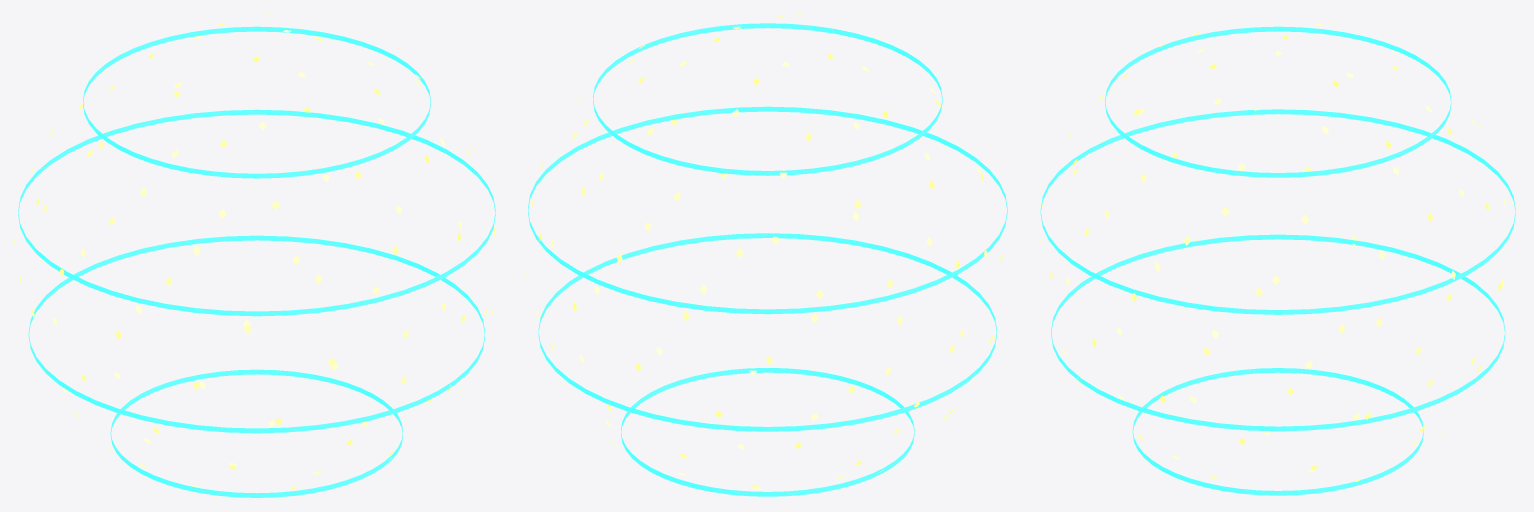
File: rider-shield.glb
3 views of the same model, side by side, from view 1: azimuth 30°, elevation 25°; view 2: azimuth 150°, elevation 25°; view 3: azimuth 270°, elevation 25° (orthographic).
Visible parts, largest first — view 1: ShieldRibbons, ShieldParticles; view 2: ShieldRibbons, ShieldParticles; view 3: ShieldRibbons, ShieldParticles.
Part boxes in pixels (<box>): ShieldRibbons: <box>18,26,495,497</box>; ShieldParticles: <box>14,14,495,496</box>; ShieldRibbons: <box>528,23,1007,496</box>; ShieldParticles: <box>524,14,1011,497</box>; ShieldRibbons: <box>1040,26,1515,495</box>; ShieldParticles: <box>1040,22,1518,497</box>.
Size of the model in its own units: 2.18 by 2.18 by 2.17.
